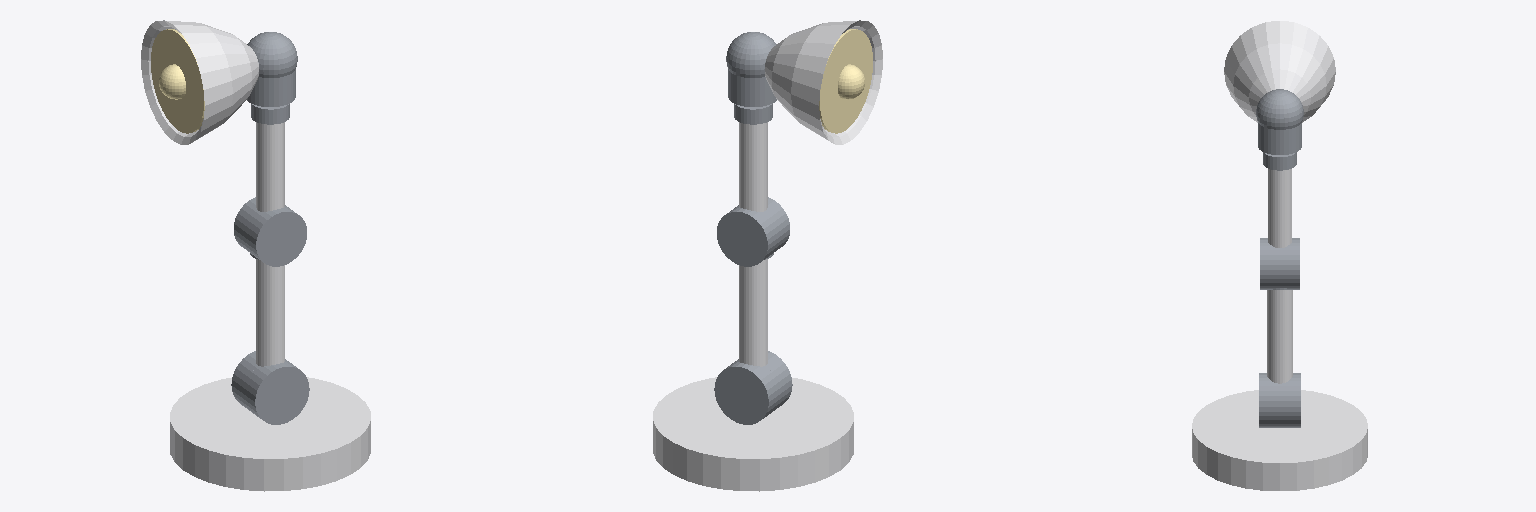
robot.urdf — dummy_character_lamp_5dof:
<?xml version="1.0"?>
<!--
  Fictional five-DOF articulated lamp for the character-robot software challenge.

  This model is a software test fixture. Its dimensions, masses, inertias,
  topology, joint names, and limits are not derived from any production robot.

  Coordinate convention:
    x: forward from the lamp head
    y: left
    z: up

  The file deliberately contains no simulator plugins, transmissions,
  controllers, or fixed world joint. Candidates are expected to choose and
  justify their simulation and control approach.
-->
<robot name="dummy_character_lamp_5dof">
  <mujoco>
    <compiler discardvisual="false" fusestatic="false" strippath="false" balanceinertia="true"/>
  </mujoco>
  <material name="fixture_white">
    <color rgba="0.94 0.94 0.95 1.0"/>
  </material>
  <material name="fixture_chrome">
    <color rgba="0.66 0.68 0.71 1.0"/>
  </material>
  <material name="fixture_light">
    <color rgba="1.0 0.95 0.76 0.95"/>
  </material>
  <material name="fixture_black">
    <color rgba="0.06 0.07 0.08 1.0"/>
  </material>

  <!-- A single-piece tabletop base. The simulator integration decides how it
       is supported, contacted, or fixed to the world. -->
  <link name="base_link">
    <inertial>
      <origin xyz="0 0 0.030" rpy="0 0 0"/>
      <mass value="3.000"/>
      <inertia ixx="0.022575" ixy="0" ixz="0"
               iyy="0.022575" iyz="0" izz="0.043350"/>
    </inertial>
    <visual>
      <origin xyz="0 0 0.030" rpy="0 0 0"/>
      <geometry>
        <cylinder radius="0.170" length="0.060"/>
      </geometry>
      <material name="fixture_white"/>
    </visual>
    <collision>
      <origin xyz="0 0 0.030" rpy="0 0 0"/>
      <geometry>
        <cylinder radius="0.170" length="0.060"/>
      </geometry>
    </collision>
  </link>

  <!-- Invisible kinematic frame for base yaw; keeping this separate preserves
       a clean one-piece housing without removing a controllable DOF. -->
  <link name="turntable_link">
    <inertial>
      <origin xyz="0 0 0.025" rpy="0 0 0"/>
      <mass value="0.350"/>
      <inertia ixx="0.000148" ixy="0" ixz="0"
               iyy="0.000148" iyz="0" izz="0.000237"/>
    </inertial>
  </link>

  <joint name="base_yaw_joint" type="revolute">
    <parent link="base_link"/>
    <child link="turntable_link"/>
    <origin xyz="0 0 0.060" rpy="0 0 0"/>
    <axis xyz="0 0 1"/>
    <limit lower="-2.600" upper="2.600" effort="6.0" velocity="1.50"/>
    <dynamics damping="0.18" friction="0.08"/>
    <safety_controller soft_lower_limit="-2.450" soft_upper_limit="2.450"
                       k_position="12.0" k_velocity="4.0"/>
  </joint>

  <link name="lower_arm_link">
    <inertial>
      <origin xyz="0 0 0.145" rpy="0 0 0"/>
      <mass value="0.950"/>
      <inertia ixx="0.006945" ixy="0" ixz="0"
               iyy="0.006945" iyz="0" izz="0.000931"/>
    </inertial>
    <visual>
      <origin xyz="0 0 0.145" rpy="0 0 0"/>
      <geometry>
        <cylinder radius="0.025" length="0.290"/>
      </geometry>
      <material name="fixture_white"/>
    </visual>
    <visual>
      <origin xyz="0 0 0" rpy="1.57079632679 0 0"/>
      <geometry>
        <cylinder radius="0.053" length="0.080"/>
      </geometry>
      <material name="fixture_chrome"/>
    </visual>
    <visual>
      <origin xyz="0 0 0.025" rpy="0 0 0"/>
      <geometry>
        <cylinder radius="0.035" length="0.030"/>
      </geometry>
      <material name="fixture_chrome"/>
    </visual>
    <visual>
      <origin xyz="0 0 0.265" rpy="0 0 0"/>
      <geometry>
        <cylinder radius="0.035" length="0.030"/>
      </geometry>
      <material name="fixture_chrome"/>
    </visual>
    <collision>
      <origin xyz="0 0 0.145" rpy="0 0 0"/>
      <geometry>
        <cylinder radius="0.039" length="0.290"/>
      </geometry>
    </collision>
  </link>

  <joint name="shoulder_pitch_joint" type="revolute">
    <parent link="turntable_link"/>
    <child link="lower_arm_link"/>
    <origin xyz="0 0 0.055" rpy="0 0 0"/>
    <axis xyz="0 1 0"/>
    <limit lower="-0.750" upper="1.050" effort="12.0" velocity="0.95"/>
    <dynamics damping="0.28" friction="0.12"/>
    <safety_controller soft_lower_limit="-0.650" soft_upper_limit="0.950"
                       k_position="14.0" k_velocity="4.0"/>
  </joint>

  <link name="upper_arm_link">
    <inertial>
      <origin xyz="0 0 0.125" rpy="0 0 0"/>
      <mass value="0.720"/>
      <inertia ixx="0.003807" ixy="0" ixz="0"
               iyy="0.003807" iyz="0" izz="0.000737"/>
    </inertial>
    <visual>
      <origin xyz="0 0 0.125" rpy="0 0 0"/>
      <geometry>
        <cylinder radius="0.024" length="0.250"/>
      </geometry>
      <material name="fixture_white"/>
    </visual>
    <visual>
      <origin xyz="0 0 0" rpy="1.57079632679 0 0"/>
      <geometry>
        <cylinder radius="0.050" length="0.076"/>
      </geometry>
      <material name="fixture_chrome"/>
    </visual>
    <visual>
      <origin xyz="0 0 0.023" rpy="0 0 0"/>
      <geometry>
        <cylinder radius="0.033" length="0.028"/>
      </geometry>
      <material name="fixture_chrome"/>
    </visual>
    <visual>
      <origin xyz="0 0 0.227" rpy="0 0 0"/>
      <geometry>
        <cylinder radius="0.033" length="0.028"/>
      </geometry>
      <material name="fixture_chrome"/>
    </visual>
    <collision>
      <origin xyz="0 0 0.125" rpy="0 0 0"/>
      <geometry>
        <cylinder radius="0.036" length="0.250"/>
      </geometry>
    </collision>
  </link>

  <joint name="elbow_pitch_joint" type="revolute">
    <parent link="lower_arm_link"/>
    <child link="upper_arm_link"/>
    <origin xyz="0 0 0.290" rpy="0 0 0"/>
    <axis xyz="0 1 0"/>
    <limit lower="-1.850" upper="0.400" effort="9.0" velocity="1.15"/>
    <dynamics damping="0.24" friction="0.10"/>
    <safety_controller soft_lower_limit="-1.700" soft_upper_limit="0.300"
                       k_position="14.0" k_velocity="4.0"/>
  </joint>

  <link name="neck_link">
    <inertial>
      <origin xyz="0 0 0.035" rpy="0 0 0"/>
      <mass value="0.260"/>
      <inertia ixx="0.000323" ixy="0" ixz="0"
               iyy="0.000281" iyz="0" izz="0.000390"/>
    </inertial>
    <visual>
      <origin xyz="0 0 0.035" rpy="0 0 0"/>
      <geometry>
        <cylinder radius="0.043" length="0.070"/>
      </geometry>
      <material name="fixture_chrome"/>
    </visual>
    <collision>
      <origin xyz="0 0 0.035" rpy="0 0 0"/>
      <geometry>
        <cylinder radius="0.050" length="0.070"/>
      </geometry>
    </collision>
  </link>

  <joint name="neck_yaw_joint" type="revolute">
    <parent link="upper_arm_link"/>
    <child link="neck_link"/>
    <origin xyz="0 0 0.250" rpy="0 0 0"/>
    <axis xyz="0 0 1"/>
    <limit lower="-1.350" upper="1.350" effort="3.5" velocity="1.60"/>
    <dynamics damping="0.12" friction="0.05"/>
    <safety_controller soft_lower_limit="-1.250" soft_upper_limit="1.250"
                       k_position="10.0" k_velocity="3.5"/>
  </joint>

  <link name="head_gimbal_link">
    <inertial>
      <origin xyz="0.035 0 0" rpy="0 0 0"/>
      <mass value="0.180"/>
      <inertia ixx="0.000170" ixy="0" ixz="0"
               iyy="0.000125" iyz="0" izz="0.000197"/>
    </inertial>
    <visual>
      <origin xyz="0.035 0 0" rpy="0 1.57079632679 0"/>
      <geometry>
        <cylinder radius="0.027" length="0.070"/>
      </geometry>
      <material name="fixture_chrome"/>
    </visual>
    <visual>
      <origin xyz="0 0 0" rpy="0 0 0"/>
      <geometry>
        <sphere radius="0.046"/>
      </geometry>
      <material name="fixture_chrome"/>
    </visual>
    <collision>
      <origin xyz="0.035 0 0" rpy="0 1.57079632679 0"/>
      <geometry>
        <cylinder radius="0.034" length="0.070"/>
      </geometry>
    </collision>
  </link>

  <joint name="head_pitch_joint" type="revolute">
    <parent link="neck_link"/>
    <child link="head_gimbal_link"/>
    <origin xyz="0 0 0.070" rpy="0 0 3.14159265359"/>
    <axis xyz="0 1 0"/>
    <limit lower="-0.900" upper="0.700" effort="3.2" velocity="1.45"/>
    <dynamics damping="0.10" friction="0.04"/>
    <safety_controller soft_lower_limit="-0.800" soft_upper_limit="0.600"
                       k_position="10.0" k_velocity="3.5"/>
  </joint>

  <link name="lamp_head_link">
    <inertial>
      <origin xyz="0.065 0 0" rpy="0 0 0"/>
      <mass value="0.580"/>
      <inertia ixx="0.002349" ixy="0" ixz="0"
               iyy="0.003222" iyz="0" izz="0.003222"/>
    </inertial>
    <visual>
      <origin xyz="0 0 0" rpy="0 0 0"/>
      <geometry>
        <mesh filename="assets/lamp_shade.stl"/>
      </geometry>
      <material name="fixture_white"/>
    </visual>
    <visual>
      <origin xyz="0.108 0 0" rpy="0 1.57079632679 0"/>
      <geometry>
        <cylinder radius="0.090" length="0.006"/>
      </geometry>
      <material name="fixture_light"/>
    </visual>
    <collision>
      <origin xyz="0.045 0 0" rpy="0 1.57079632679 0"/>
      <geometry>
        <cylinder radius="0.110" length="0.160"/>
      </geometry>
    </collision>
  </link>

  <joint name="lamp_head_fixed_joint" type="fixed">
    <parent link="head_gimbal_link"/>
    <child link="lamp_head_link"/>
    <origin xyz="0.070 0 0" rpy="0 0 0"/>
  </joint>

  <!-- Semantic frames for software integration. URDF does not define light,
       camera, or speaker behavior; each candidate's simulator adapter may. -->
  <link name="light_emitter_link">
    <visual>
      <geometry>
        <sphere radius="0.030"/>
      </geometry>
      <material name="fixture_light"/>
    </visual>
  </link>
  <joint name="light_emitter_fixed_joint" type="fixed">
    <parent link="lamp_head_link"/>
    <child link="light_emitter_link"/>
    <origin xyz="0.113 0 0" rpy="0 0 0"/>
  </joint>

  <link name="camera_link">
    <visual>
      <origin xyz="0 0 0" rpy="0 1.57079632679 0"/>
      <geometry>
        <cylinder radius="0.012" length="0.018"/>
      </geometry>
      <material name="fixture_black"/>
    </visual>
  </link>
  <joint name="camera_fixed_joint" type="fixed">
    <parent link="lamp_head_link"/>
    <child link="camera_link"/>
    <origin xyz="0.050 0 -0.090" rpy="0 0 0"/>
  </joint>

  <link name="speaker_link">
  </link>
  <joint name="speaker_fixed_joint" type="fixed">
    <parent link="base_link"/>
    <child link="speaker_link"/>
    <origin xyz="0.105 -0.105 0.045" rpy="0 0 -0.78539816339"/>
  </joint>
</robot>

--- Render facts (derived) ---
The picture shows the robot from 3 angles, left to right: view 1: azimuth 30°, elevation 25°; view 2: azimuth 150°, elevation 25°; view 3: azimuth 270°, elevation 25°; orthographic projection.
Model dummy_character_lamp_5dof with 10 links and 9 joints (5 revolute, 4 fixed), rooted at base_link, posed every joint at zero.
Links seen in each view (by area): view 1: base_link, lamp_head_link, lower_arm_link, upper_arm_link, head_gimbal_link, neck_link, light_emitter_link; view 2: base_link, lamp_head_link, lower_arm_link, upper_arm_link, head_gimbal_link, neck_link, light_emitter_link; view 3: base_link, lamp_head_link, lower_arm_link, upper_arm_link, head_gimbal_link, neck_link.
Link boxes in pixels (x1=…): base_link: x1=170, y1=377, x2=370, y2=491; lamp_head_link: x1=141, y1=20, x2=258, y2=144; lower_arm_link: x1=231, y1=253, x2=309, y2=424; upper_arm_link: x1=234, y1=104, x2=306, y2=266; head_gimbal_link: x1=247, y1=32, x2=297, y2=77; neck_link: x1=247, y1=69, x2=295, y2=106; light_emitter_link: x1=159, y1=64, x2=185, y2=99; base_link: x1=653, y1=377, x2=853, y2=491; lamp_head_link: x1=765, y1=20, x2=882, y2=144; lower_arm_link: x1=714, y1=253, x2=792, y2=424; upper_arm_link: x1=717, y1=104, x2=789, y2=266; head_gimbal_link: x1=726, y1=32, x2=776, y2=77; neck_link: x1=728, y1=69, x2=776, y2=106; light_emitter_link: x1=838, y1=64, x2=864, y2=99; base_link: x1=1192, y1=390, x2=1367, y2=490; lamp_head_link: x1=1224, y1=21, x2=1335, y2=122; lower_arm_link: x1=1259, y1=288, x2=1300, y2=427; upper_arm_link: x1=1260, y1=152, x2=1299, y2=289; head_gimbal_link: x1=1256, y1=89, x2=1303, y2=129; neck_link: x1=1258, y1=123, x2=1301, y2=154.
Bounding box of the posed robot: 0.383 × 0.34 × 0.833 m (x, y, z).
1 mesh visuals loaded from 1 distinct referenced files (1 binary STL).
